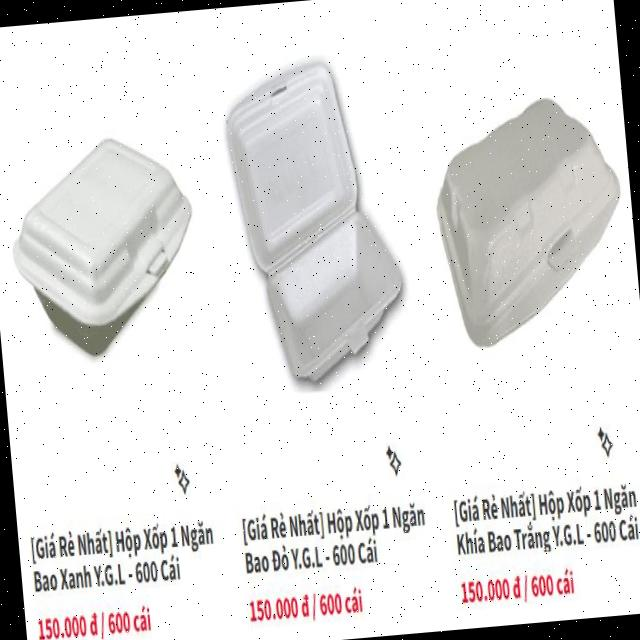styrofoam: (217, 49, 410, 388), (427, 88, 632, 350), (2, 126, 203, 363)
